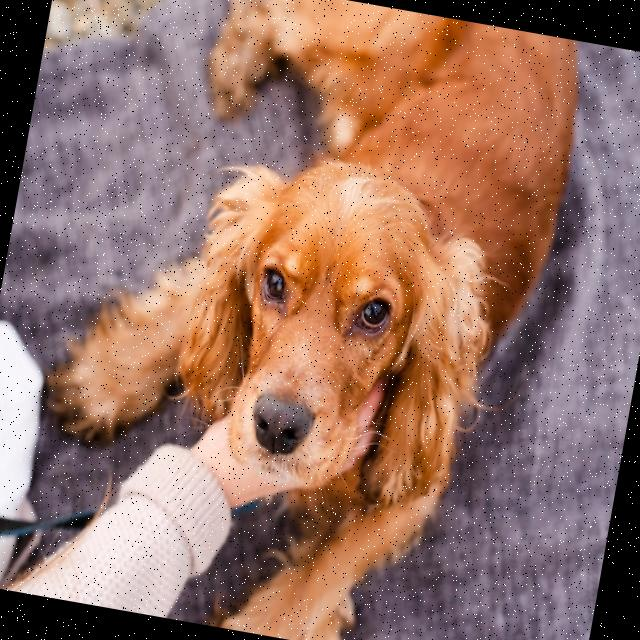Dog: (9, 0, 589, 640)
